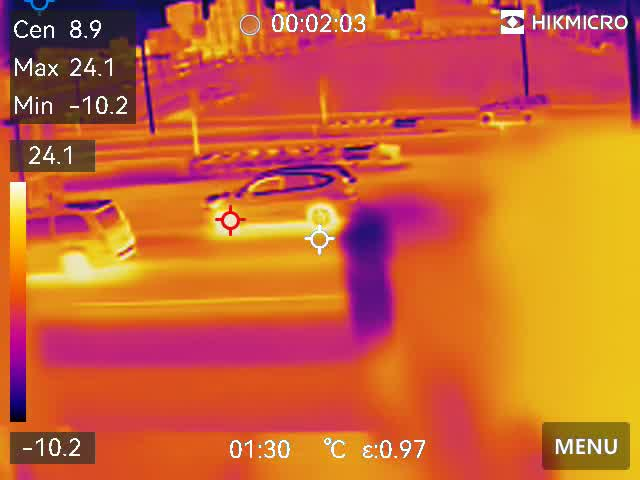largeCar: (185, 167, 360, 239), (27, 201, 141, 275)
